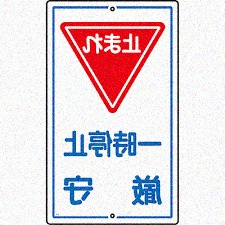Regulatory_sign_triangle: (59, 15, 171, 121)
